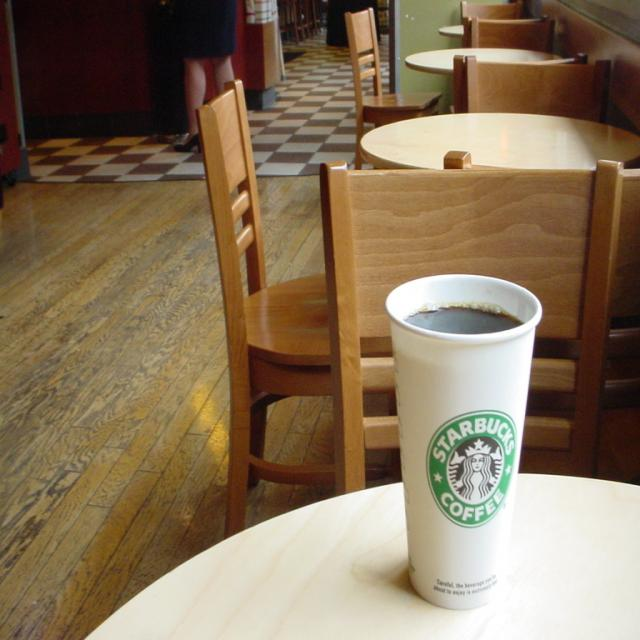Coffee: (392, 274, 540, 608)
